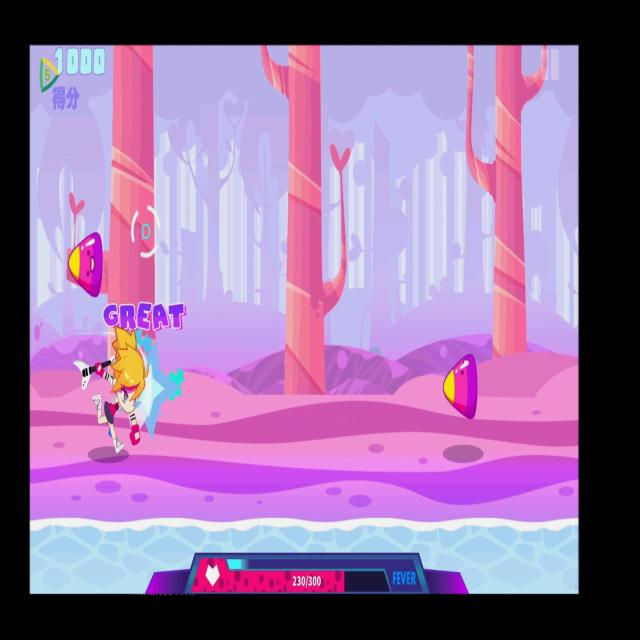Ground Monster - Red Bullet: (434, 341, 488, 441), (63, 228, 109, 304)
